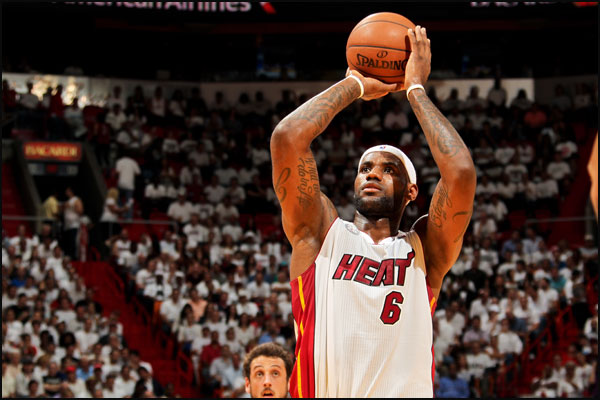Basketball: (342, 10, 416, 88)
